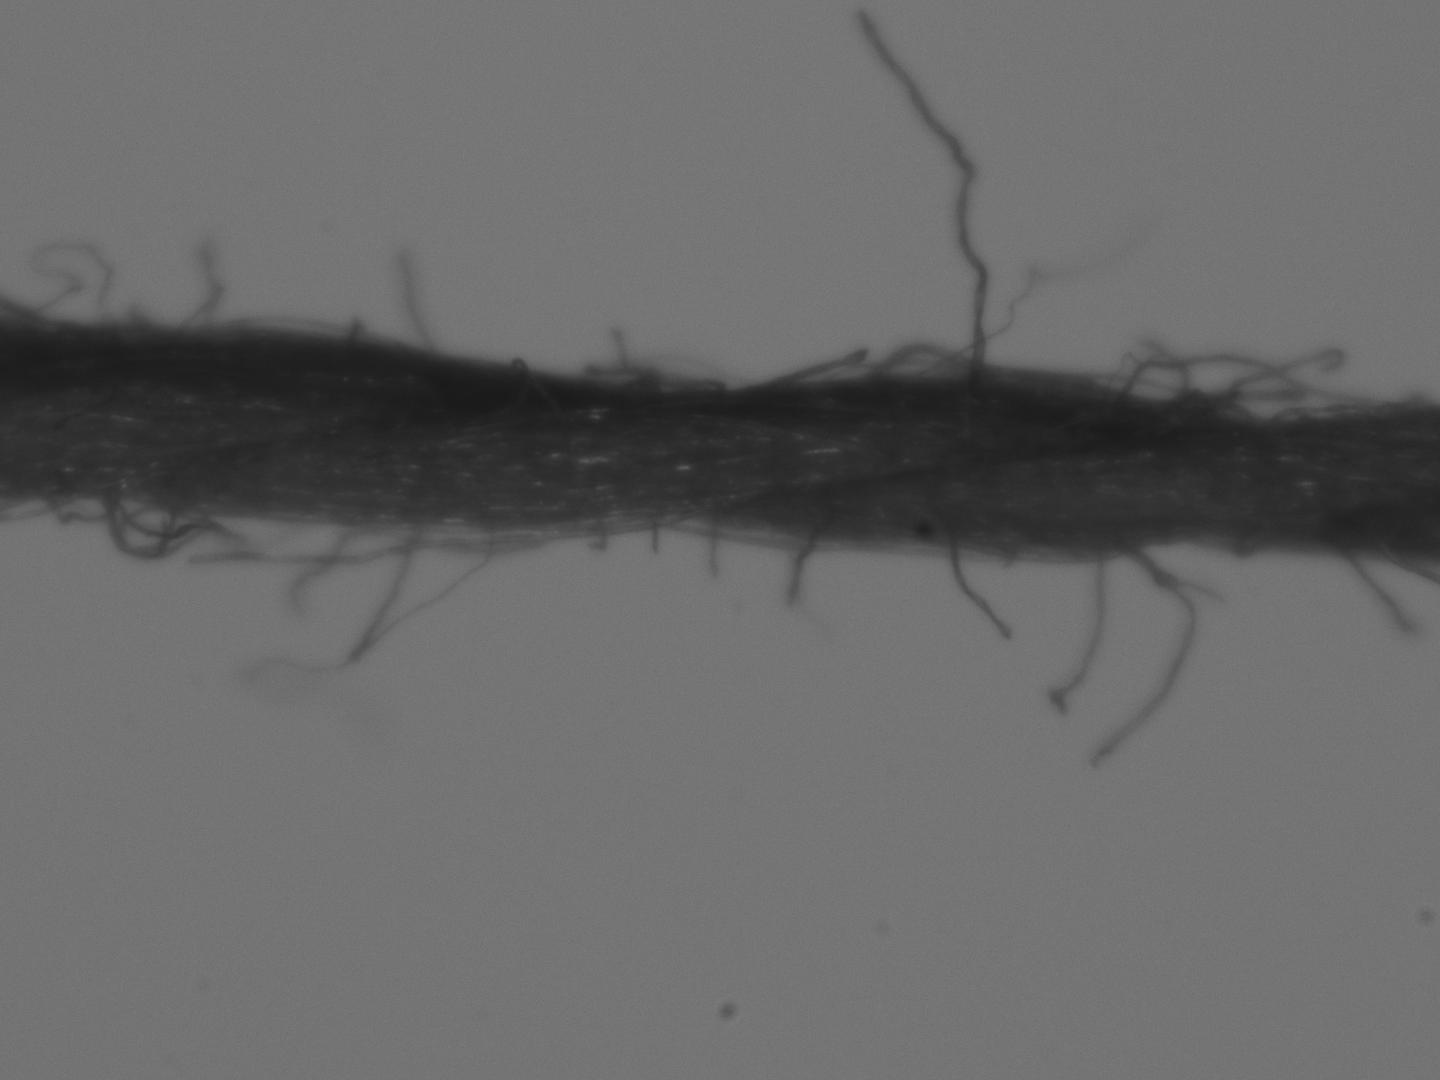loop_fiber: (744, 337, 1439, 428), (254, 518, 497, 682), (1, 495, 308, 563), (576, 330, 731, 397), (11, 237, 116, 336), (214, 312, 416, 356), (171, 243, 226, 336)
protruding_fiber: (855, 7, 990, 377), (937, 219, 1150, 372), (1085, 542, 1221, 770), (196, 525, 542, 569), (1037, 550, 1110, 716), (1333, 548, 1422, 636), (287, 528, 365, 623), (945, 543, 1016, 644), (398, 245, 437, 358), (780, 529, 818, 610), (703, 521, 719, 576)
